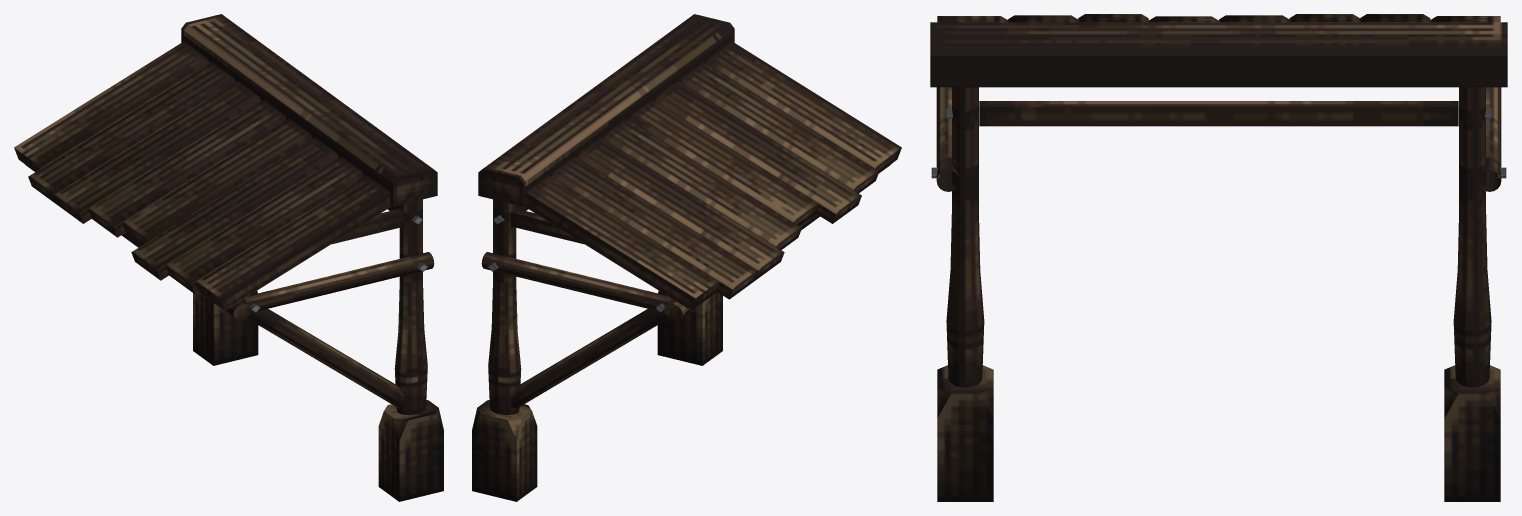
Rendered from EnvObjMD_Stall_C.FBX.
3 renders of one model, left to right at view 1: azimuth 30°, elevation 25°; view 2: azimuth 150°, elevation 25°; view 3: azimuth 270°, elevation 25°, orthographic. The views are drawn at different scales.
Parts seen in each view (by area): view 1: EnvObjMD_Stall_C; view 2: EnvObjMD_Stall_C; view 3: EnvObjMD_Stall_C.
Part boxes in pixels (left/top/right/bottom): EnvObjMD_Stall_C: left=14, top=14, right=443, bottom=501; EnvObjMD_Stall_C: left=472, top=14, right=901, bottom=501; EnvObjMD_Stall_C: left=930, top=14, right=1507, bottom=501.
Size of the model in its own units: 264 by 350 by 410.
